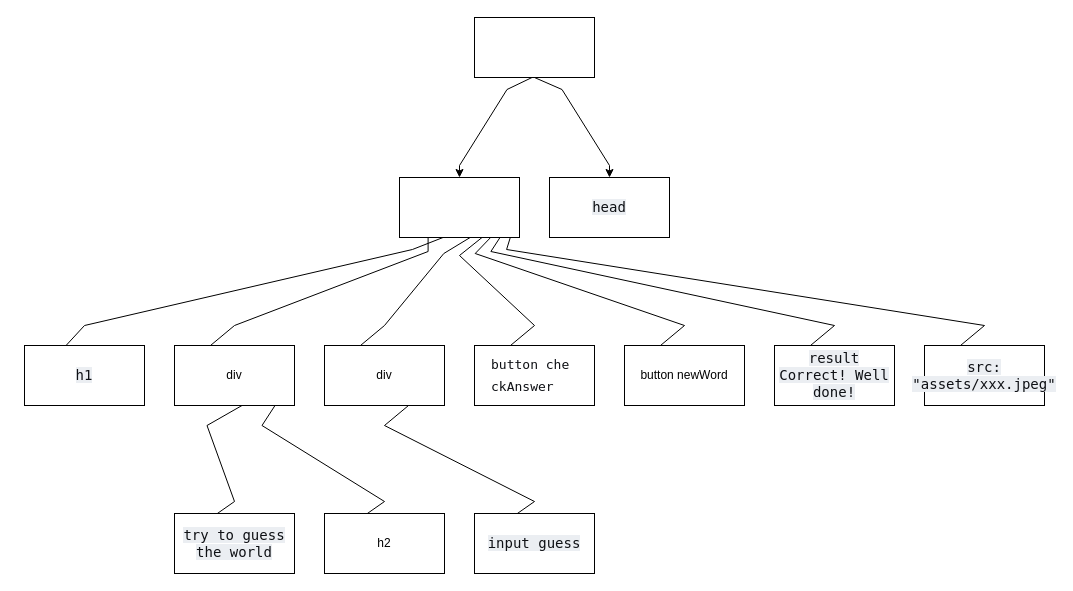
This 1073x591 diagram has some shape labels left out. Here are the shapes that lost their labels. From the top down, the centre of each, then its label:
At point 534,47: "html".
At point 459,207: "body".
